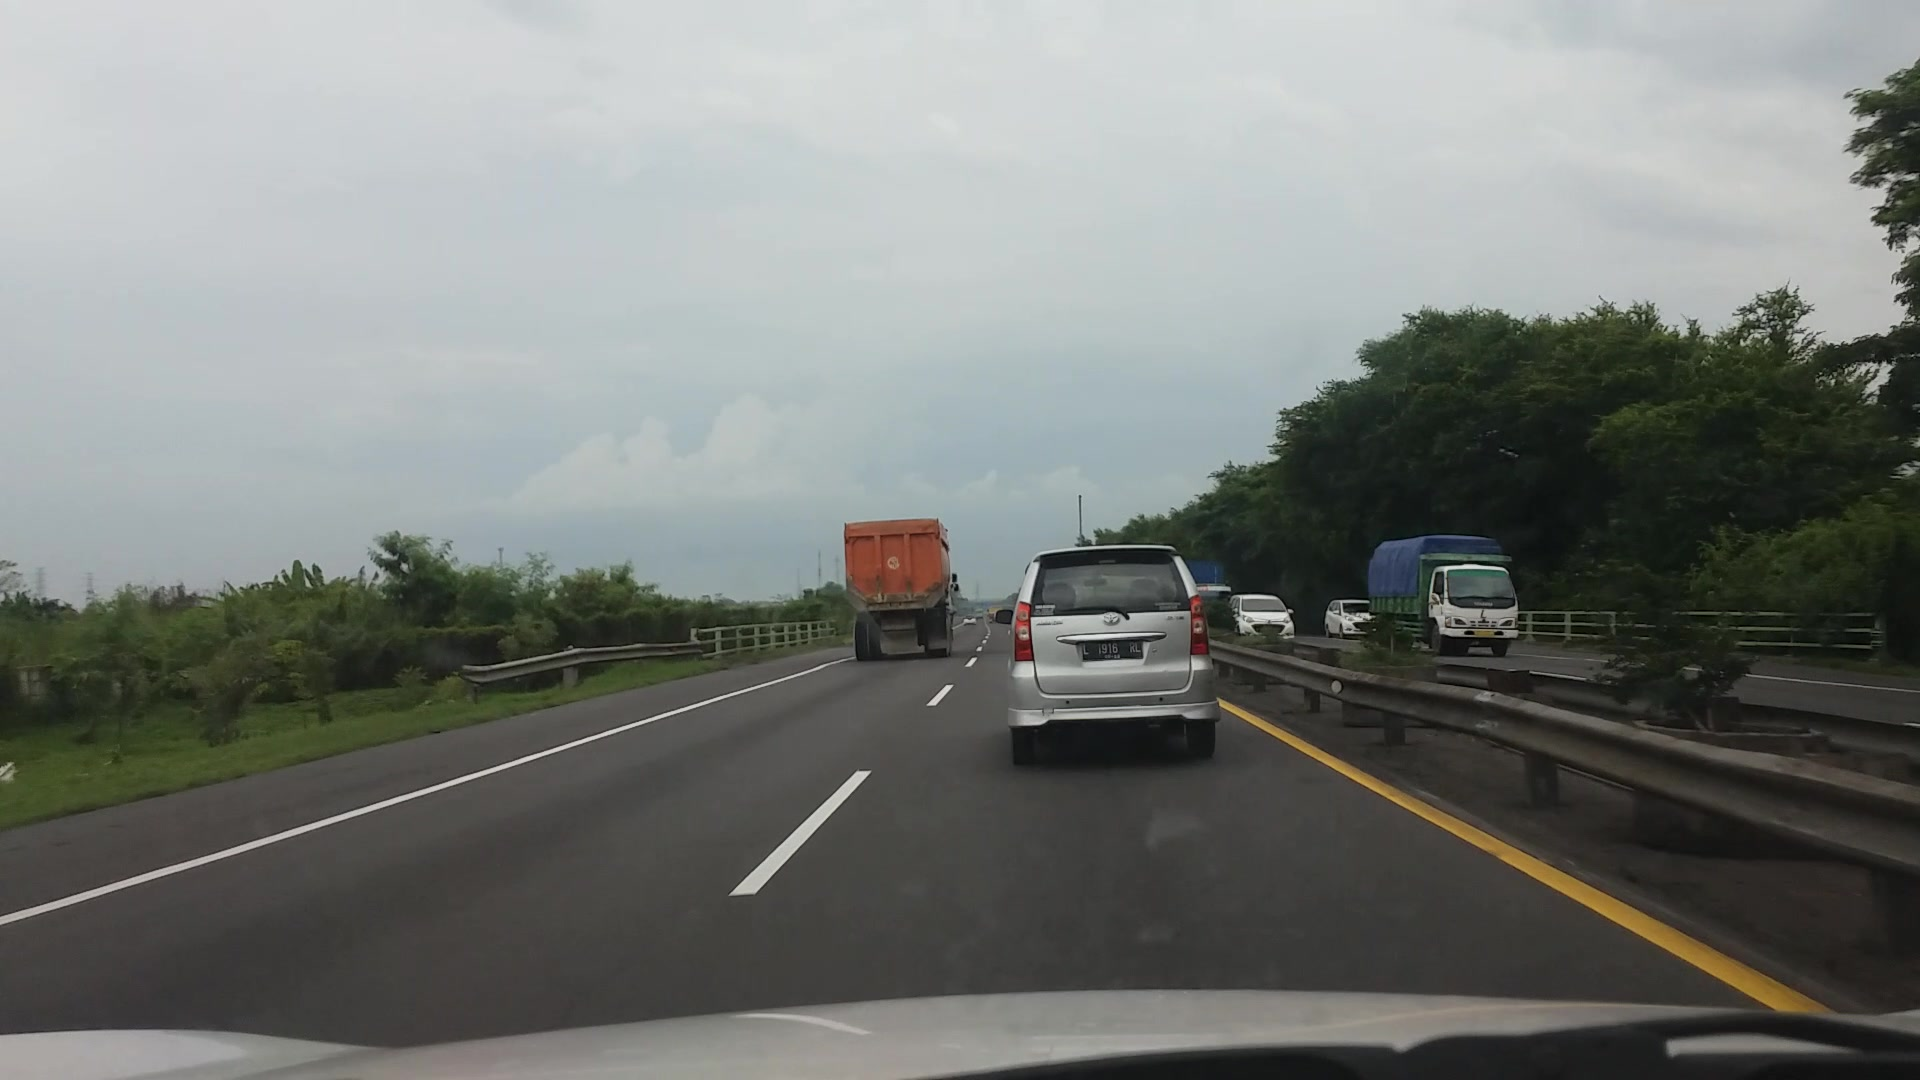plate_positive: (1081, 640, 1142, 659)
